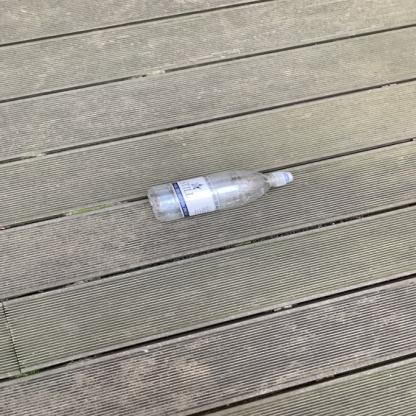trash: (148, 164, 296, 226)
